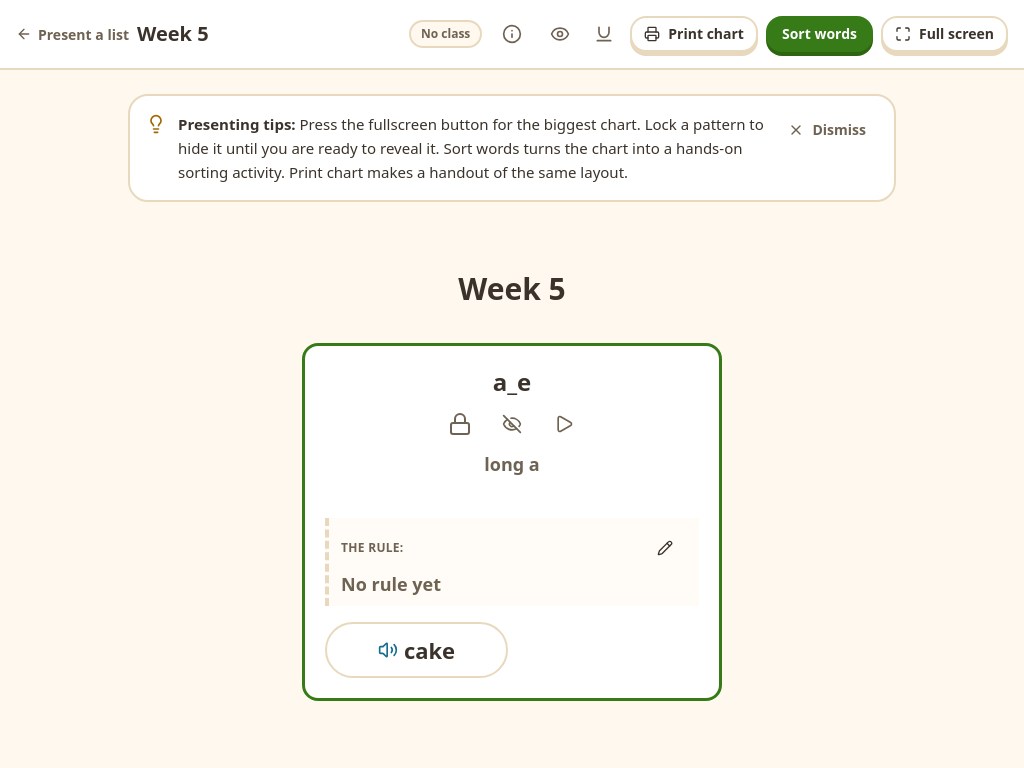
Test: DisplayMode › enters sort mode directly from the Sort words button, with no class picker
Check: the text "Week 5" is shown, box [458,268,566,309]
Check: the text "long a" is shown once, box [484,452,540,476]
Click the button "Sort words" at (820, 34), box [766,16,873,52]
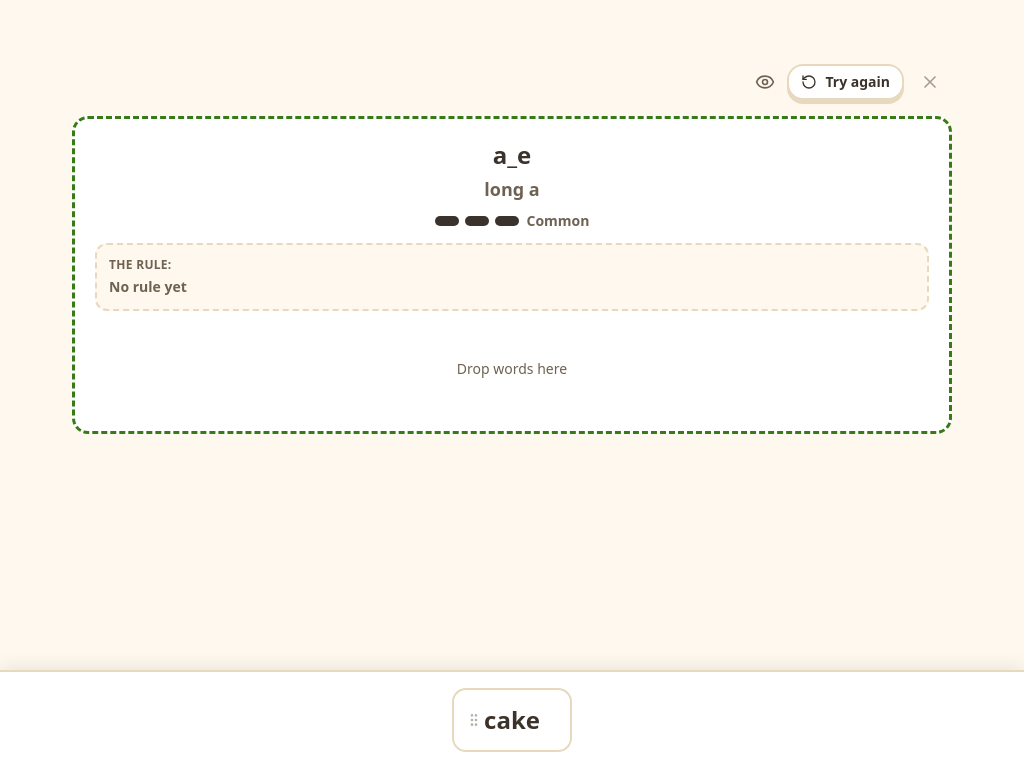
Check: the element named "Word tray" is shown, box [0,670,1023,767]
Check: the text "long a" is shown once, box [484,177,540,201]
Click the button named "Exit sort" at (930, 82), box [908,64,952,100]
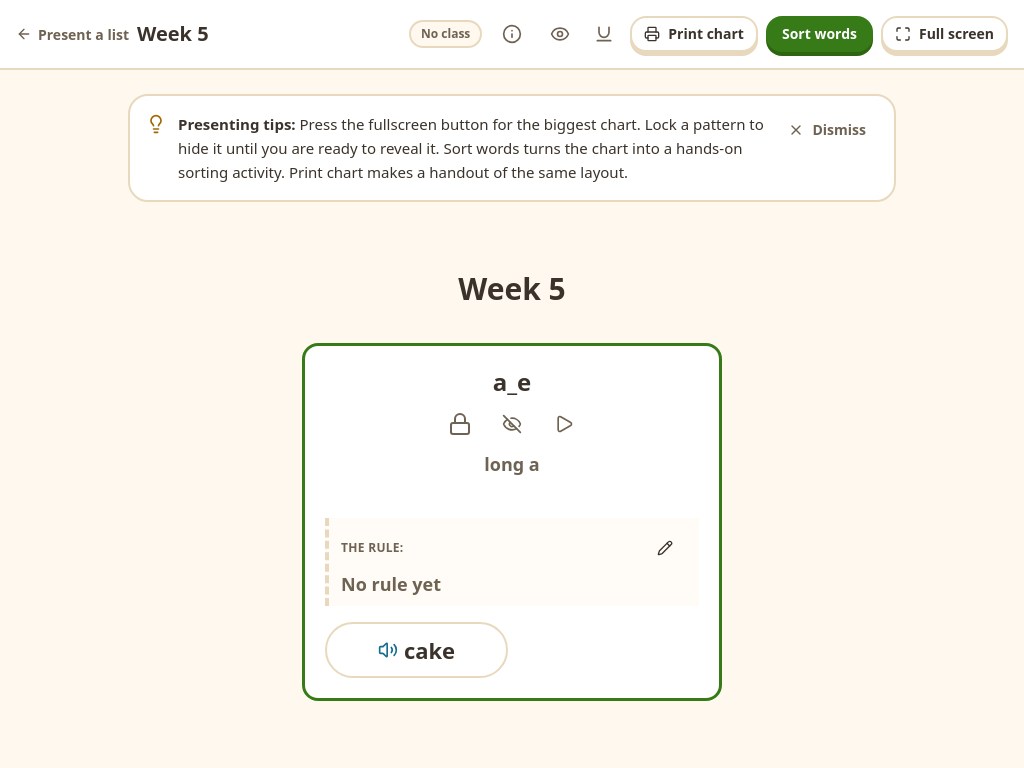
Check: the text "Week 5" is shown, box [458,268,566,309]
Check: the text "long a" is shown once, box [484,452,540,476]
